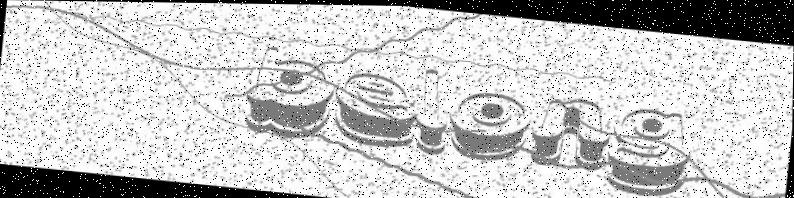b: (240, 40, 341, 144)
e: (332, 63, 418, 147)
g: (606, 104, 695, 198)
l: (410, 60, 457, 155)
n: (530, 87, 614, 172)
o: (444, 89, 534, 163)
